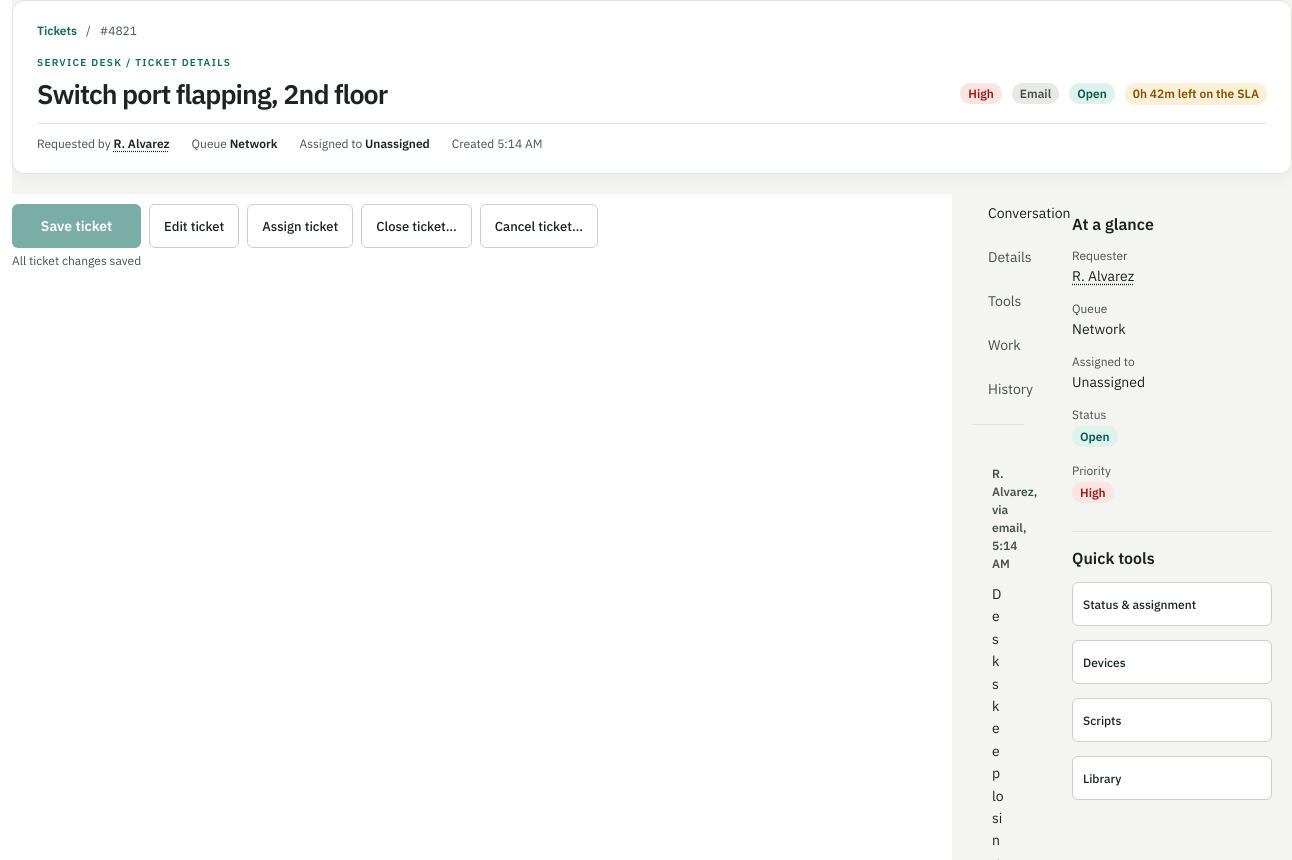
Test: no imported details box on other tickets
Click the tab "Details" at {"x": 1010, "y": 257}, box [972, 238, 1048, 276]
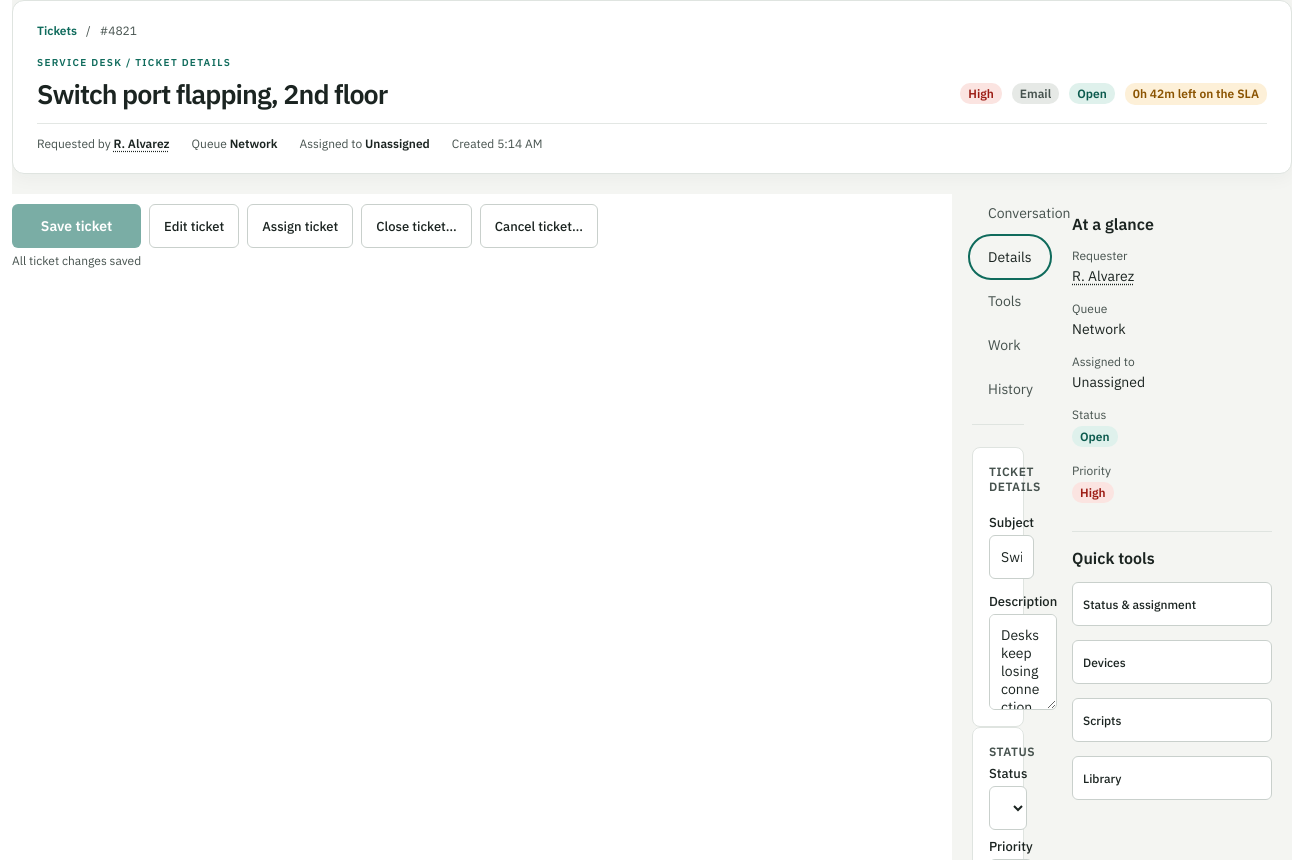
expect the dropdown labelled "Status" is shown: met, box [989, 786, 1027, 830]
